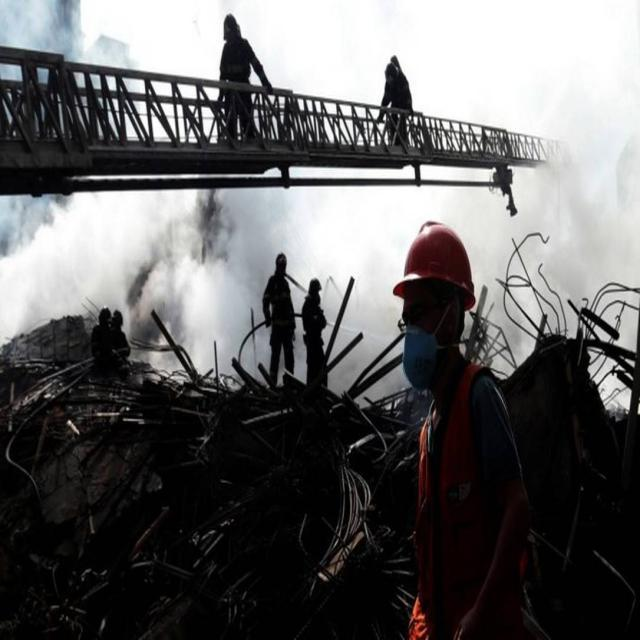Smoke: (444, 12, 640, 404), (0, 200, 269, 379), (279, 202, 428, 406), (256, 3, 458, 134), (15, 0, 216, 75)
